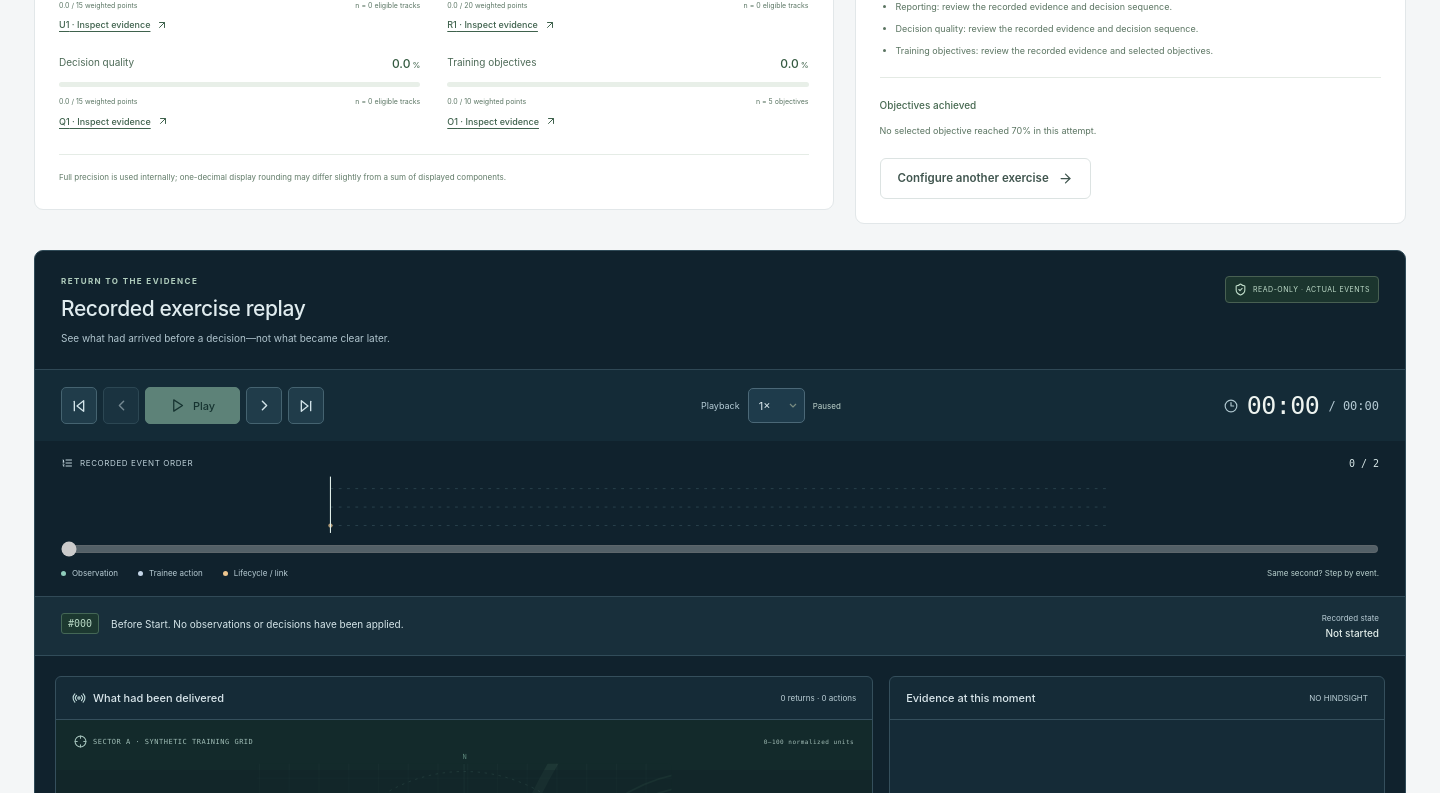
Test case: evidence-linked terminated session report › renders missing observations and aborted result as empty/noncomparable, not fictional evidence
This screenshot has width=1440, height=793.
(page scrolled)
Expected: the slider named "Replay position in simulation seconds" is disabled, [61,538,1379,560]
Click the button named "Go to replay end": coordinates (306, 406) [288,387,324,424]
(page scrolled)
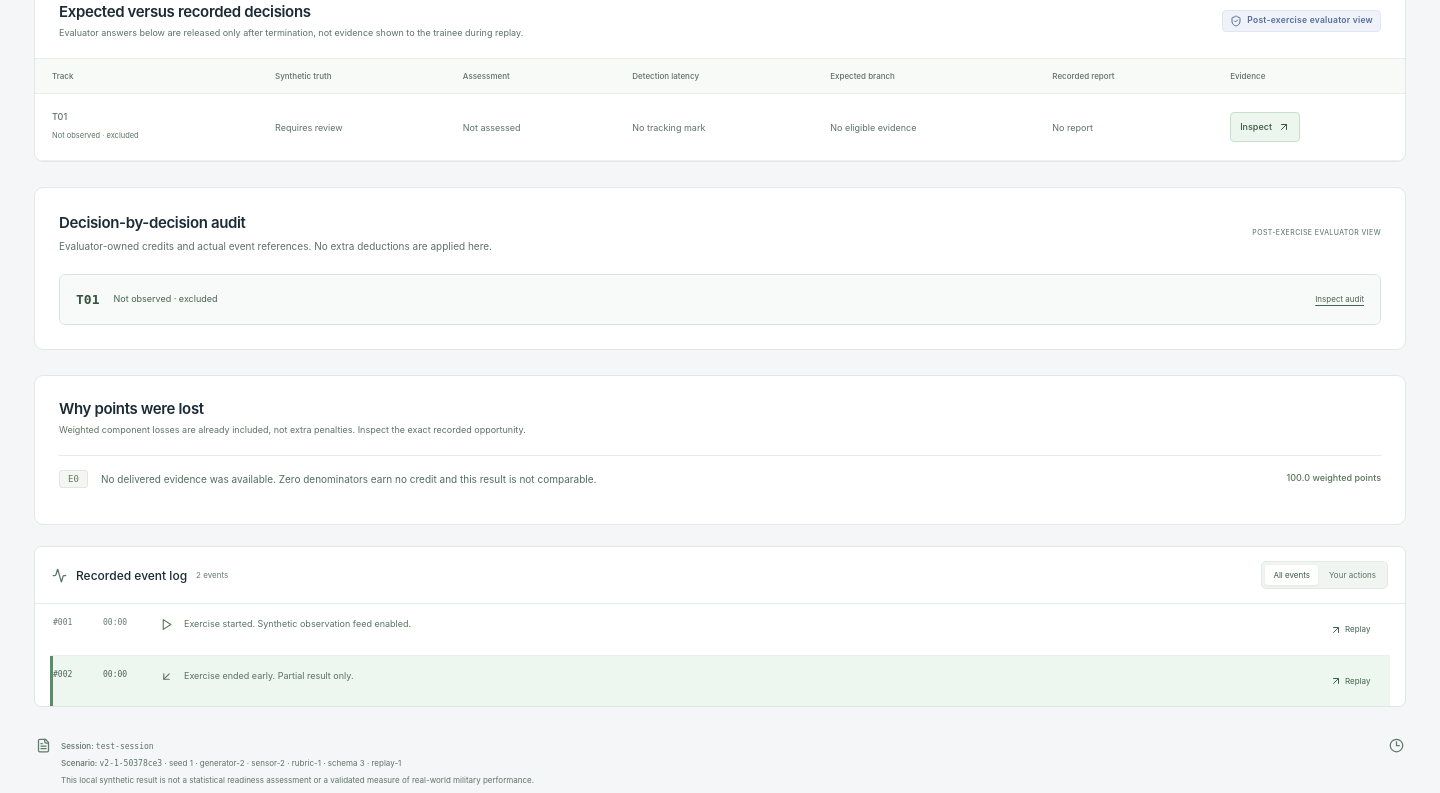
Click the button "Your actions": coordinates (1352, 576) [1321,566,1384,586]
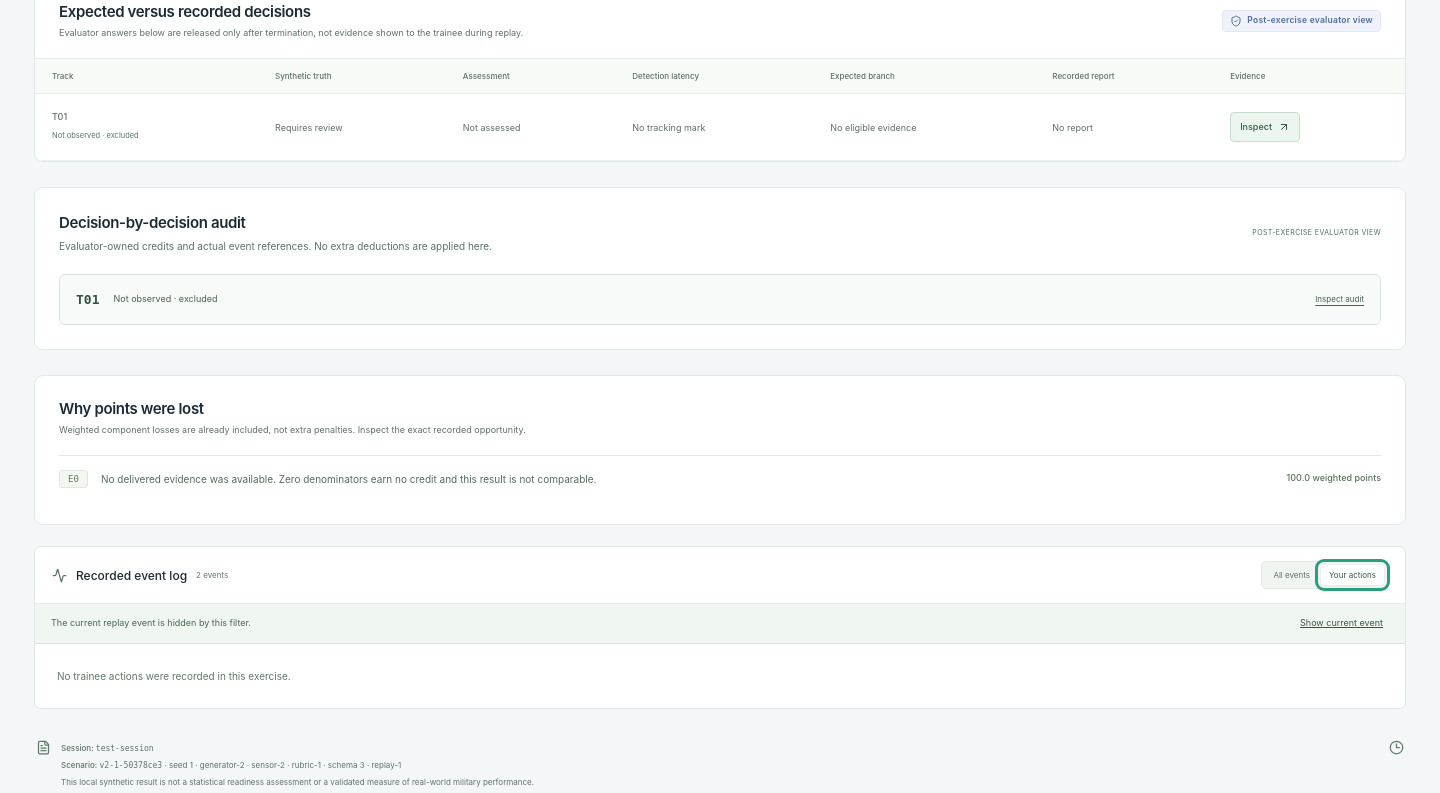
Now the text "No trainee actions were recorded in this exercise." is shown, box [57,670,291,682]
